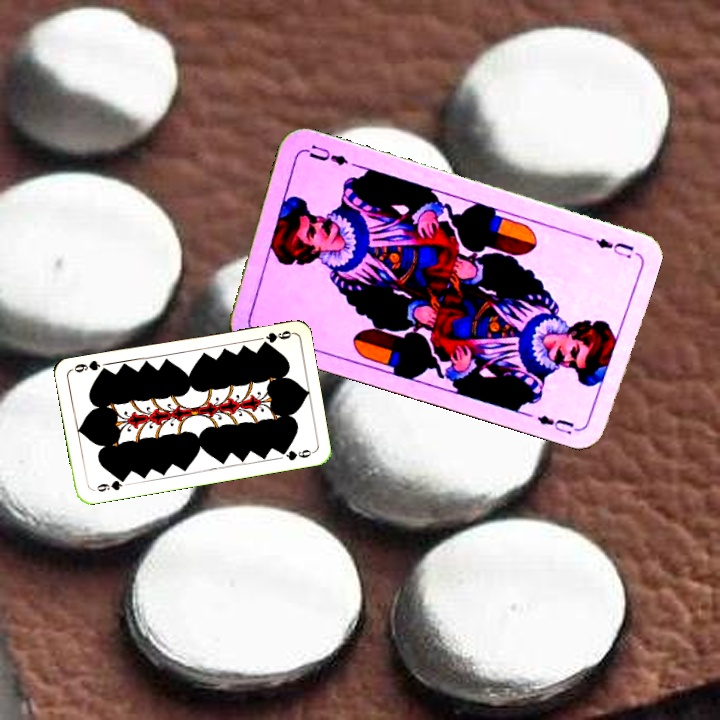EU: (591, 234, 636, 261)
G9: (257, 327, 295, 348), (93, 474, 128, 494)
